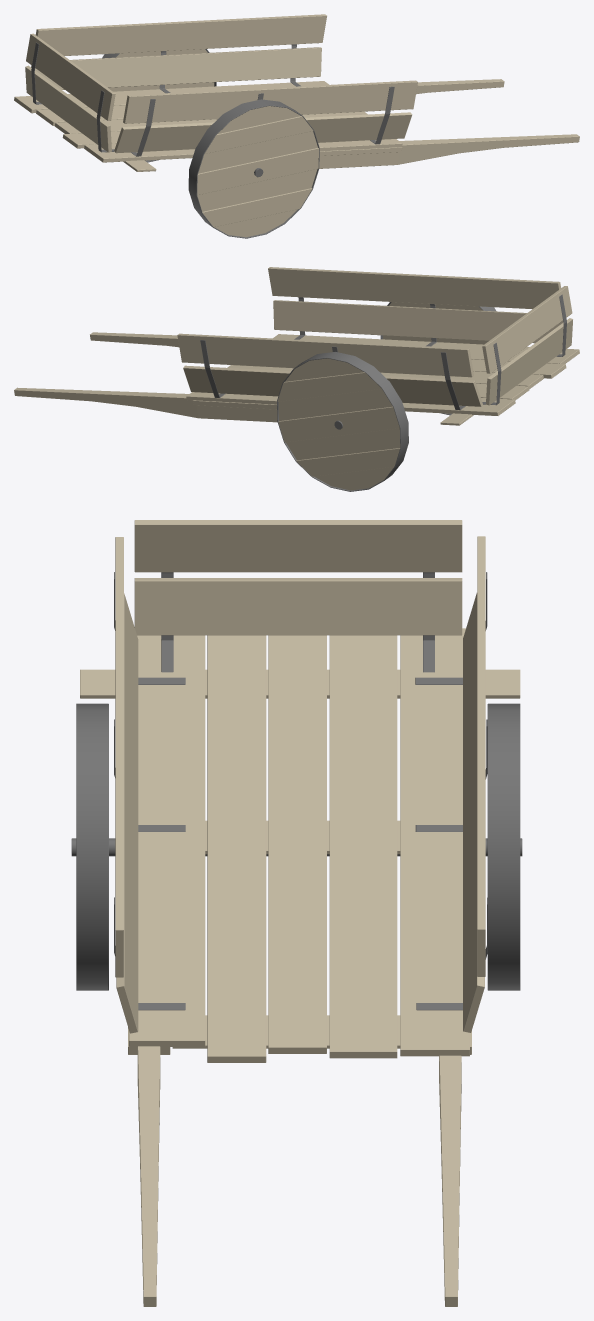
The model's file is cart_high.fbx.
3 views of the same model, one above another, from view 1: azimuth 30°, elevation 25°; view 2: azimuth 150°, elevation 25°; view 3: azimuth 270°, elevation 25° (orthographic). The views are drawn at different scales.
Visible parts, largest first — view 1: high; view 2: high; view 3: high.
Part boxes in pixels (x1,y1,x2,y2): high: (14,14,579,238); high: (14,267,579,491); high: (71,520,522,1306).
Size of the model in its own units: 32.2 by 10.41 by 12.92.
